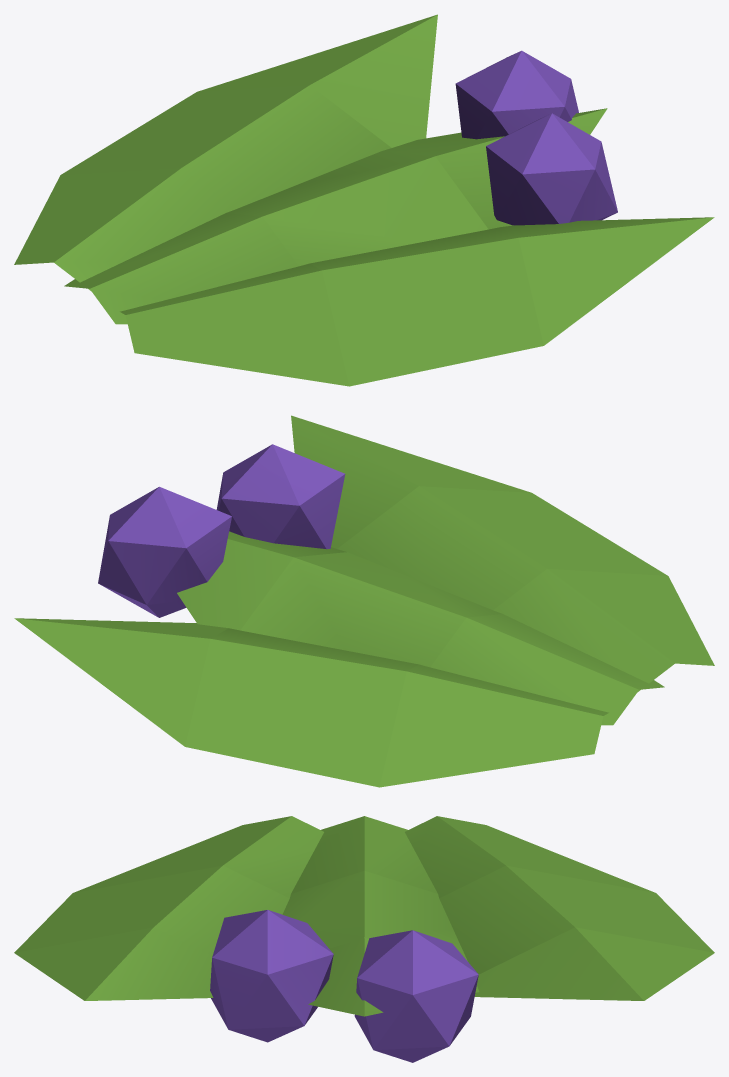
File: HerbItem.fbx
The picture shows the model from 3 angles, top to bottom: view 1: azimuth 30°, elevation 25°; view 2: azimuth 150°, elevation 25°; view 3: azimuth 270°, elevation 25°; orthographic projection.
Visible parts, largest first — view 1: HerbItem; view 2: HerbItem; view 3: HerbItem.
Boxes of the visible parts, x1,y1,x2,y2 form: HerbItem: [14, 14, 714, 386]; HerbItem: [14, 415, 714, 787]; HerbItem: [14, 816, 714, 1062].
Size of the model in its own units: 0.2574 by 0.0606 by 0.29.
